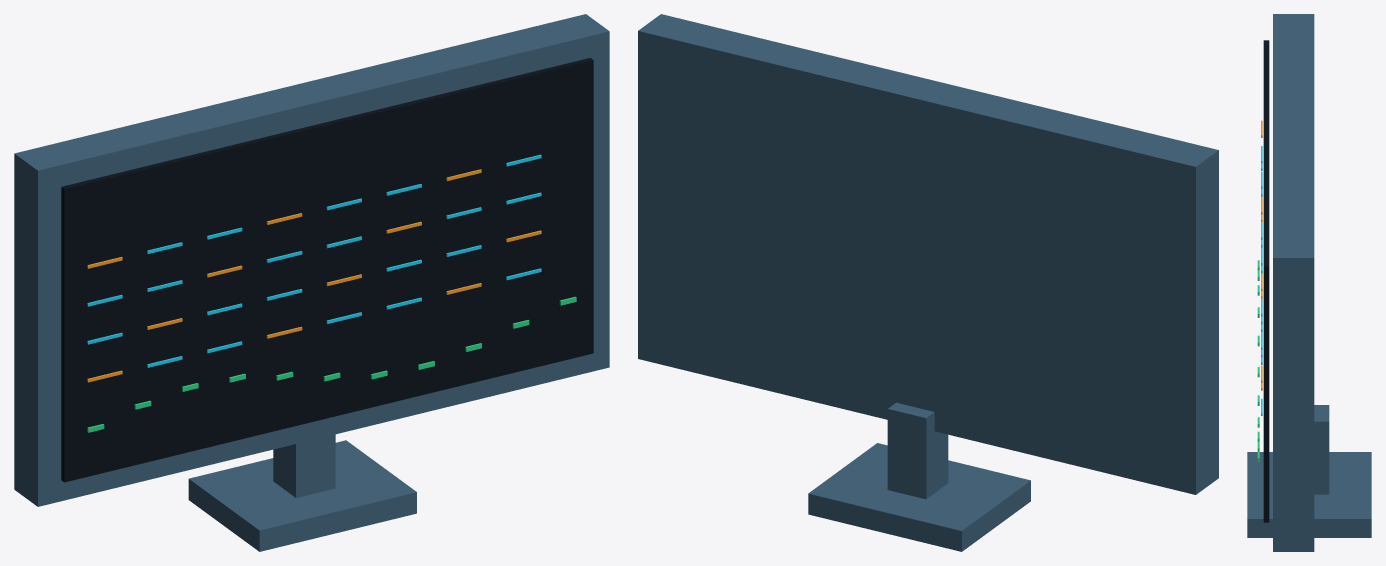
File: 43_L69_HolographicRefrigerationSCADA.fbx
3 views of the same model, side by side, from view 1: azimuth 30°, elevation 25°; view 2: azimuth 150°, elevation 25°; view 3: azimuth 270°, elevation 25° (orthographic). The views are drawn at different scales.
Visible parts, largest first — view 1: HolographicRefrigerationSCADA; view 2: HolographicRefrigerationSCADA; view 3: HolographicRefrigerationSCADA.
Part boxes in pixels (left/top/right/bottom): HolographicRefrigerationSCADA: left=14, top=14, right=609, bottom=551; HolographicRefrigerationSCADA: left=638, top=14, right=1218, bottom=551; HolographicRefrigerationSCADA: left=1247, top=14, right=1371, bottom=551.
Size of the model in its own units: 363 by 256 by 78.
